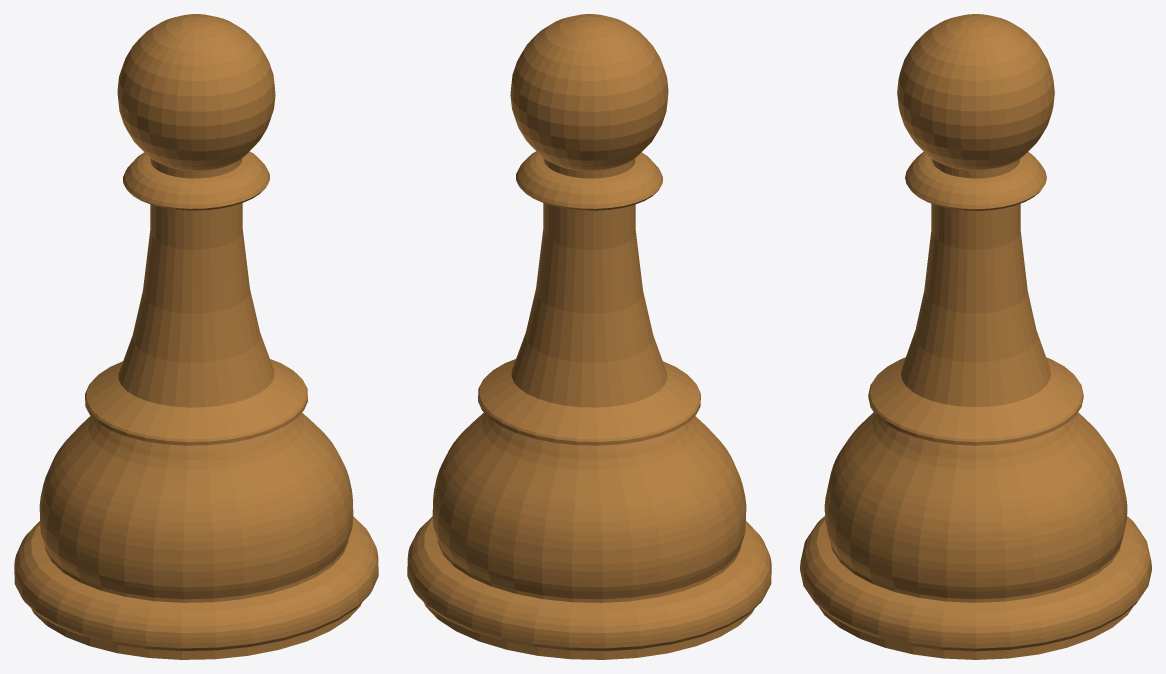
Rendered from gercek3_p_w.glb.
3 views of the same model, side by side, from view 1: azimuth 30°, elevation 25°; view 2: azimuth 150°, elevation 25°; view 3: azimuth 270°, elevation 25° (orthographic).
Parts seen in each view (by area): view 1: p_w; view 2: p_w; view 3: p_w.
Part boxes in pixels (bbox=[...]): p_w: bbox=[14, 14, 378, 659]; p_w: bbox=[407, 14, 771, 659]; p_w: bbox=[800, 14, 1151, 659].
Bounding box in the file's own units: 0.5306 × 0.9 × 0.5069.
